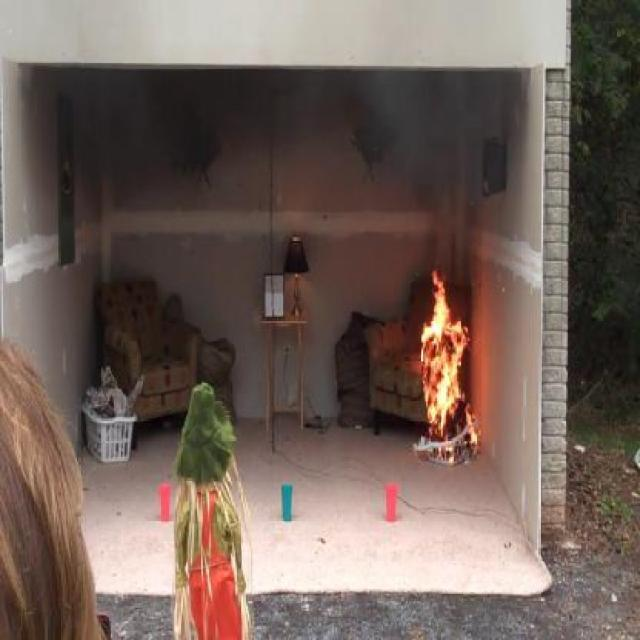fire: (403, 278, 472, 454)
smoke: (294, 27, 560, 227)
